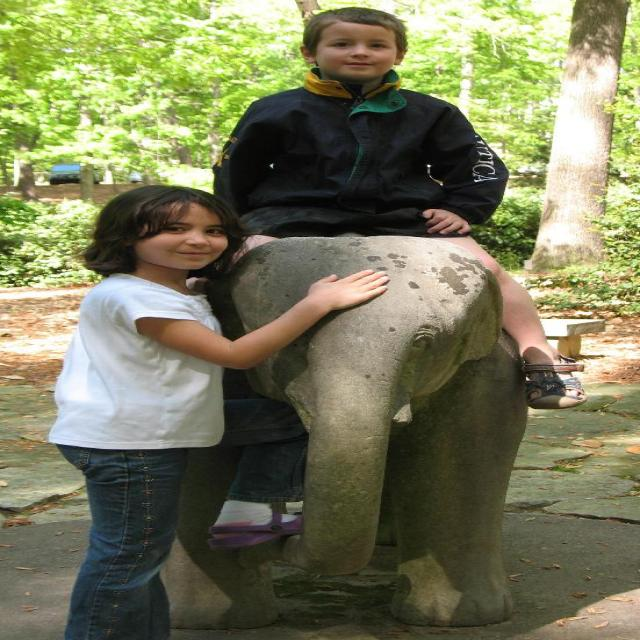elephant: (125, 168, 588, 632)
